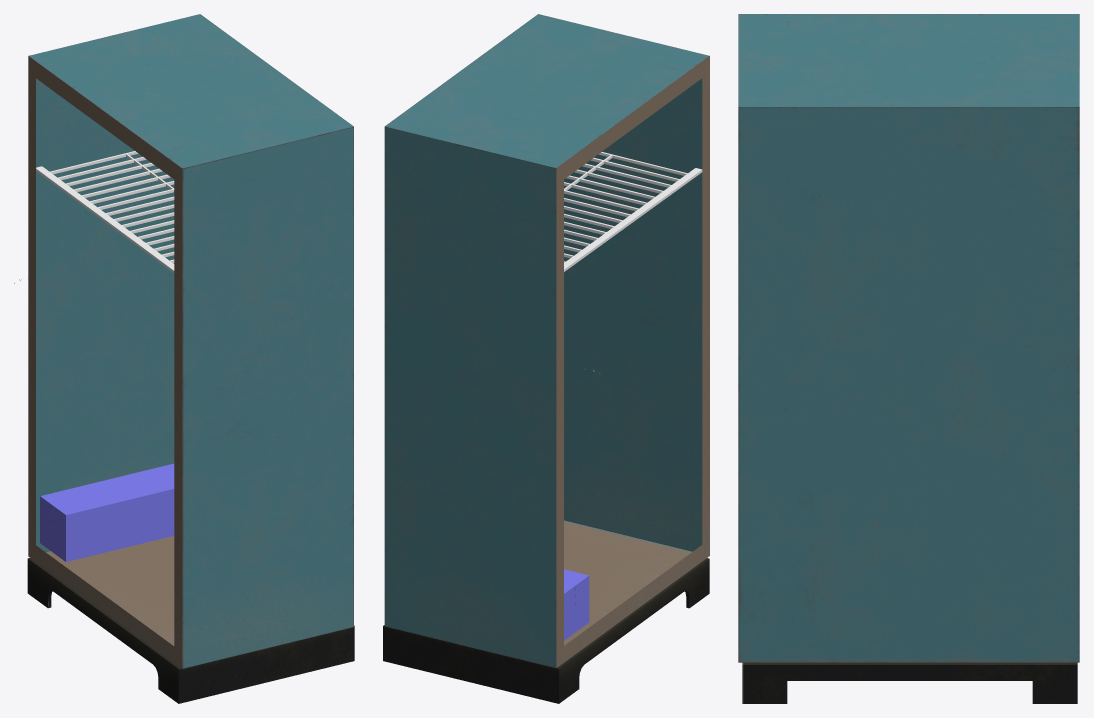
3 views of the same model, side by side, from view 1: azimuth 30°, elevation 25°; view 2: azimuth 150°, elevation 25°; view 3: azimuth 270°, elevation 25° (orthographic). The views are drawn at different scales.
Visible parts, largest first — view 1: pCube211, square, Box033_Chrome_0.001; view 2: pCube211, Box033_Chrome_0.001, square; view 3: pCube211.
Part boxes in pixels (x1,y1,x2,y2): pCube211: (14,14,354,703); square: (40,463,174,561); Box033_Chrome_0.001: (36,151,174,272); pCube211: (383,14,709,703); Box033_Chrome_0.001: (564,152,702,271); square: (564,569,589,640); pCube211: (738,14,1079,703).
Size of the model in its own units: 54.32 by 137 by 71.18.
3 materials, 2 textured.
